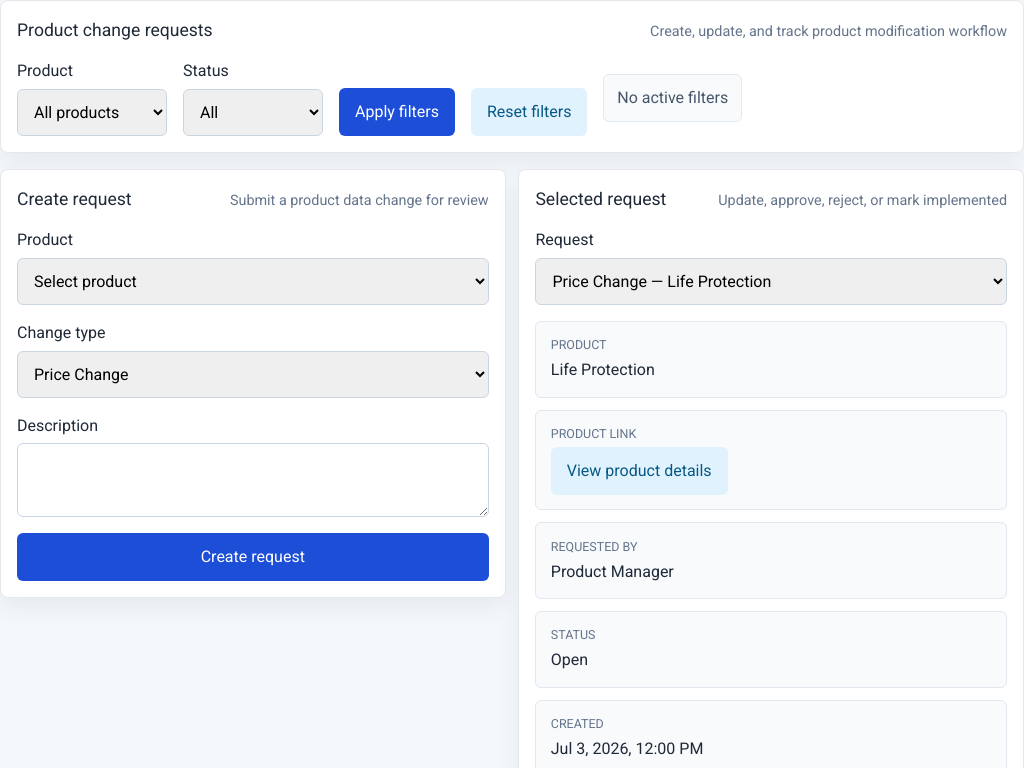
Test case: ProductChangeRequestsPage › applies product and status filters
This screenshot has width=1024, height=768.
Select "Life Protection" in the dropdown named "Product filter": (92, 112) [17, 89, 167, 136]
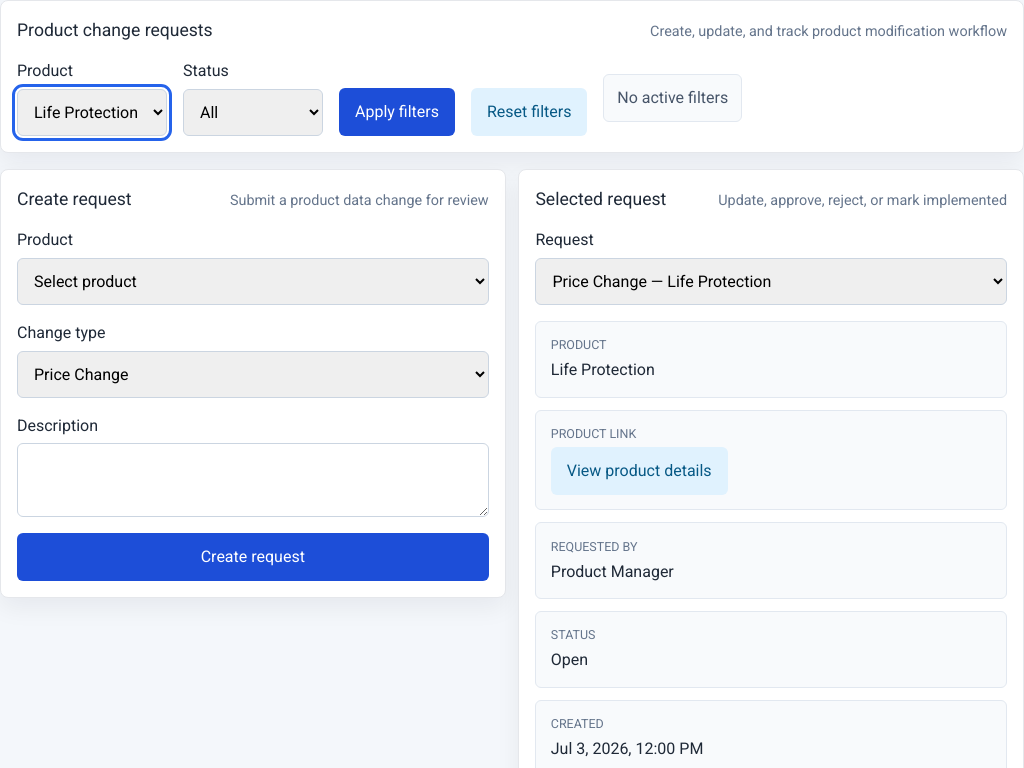
Select "Open" in the dropdown named "Change request status filter": (253, 112) [183, 89, 323, 136]
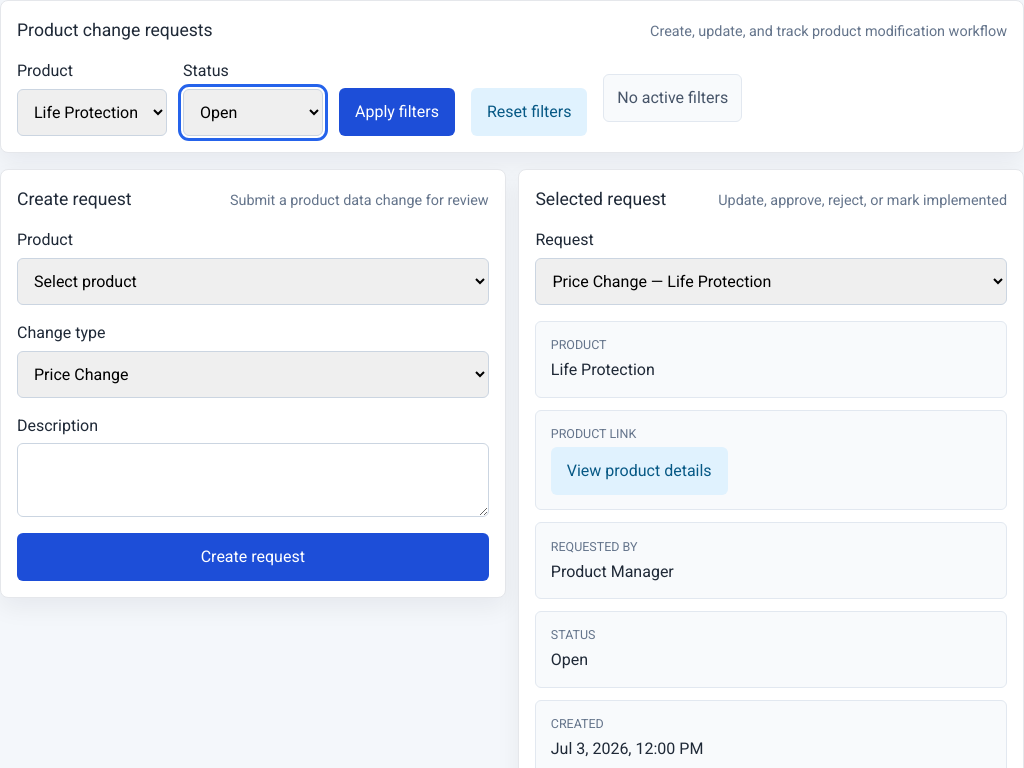
Click the button "Apply filters": (397, 112) [339, 88, 455, 136]
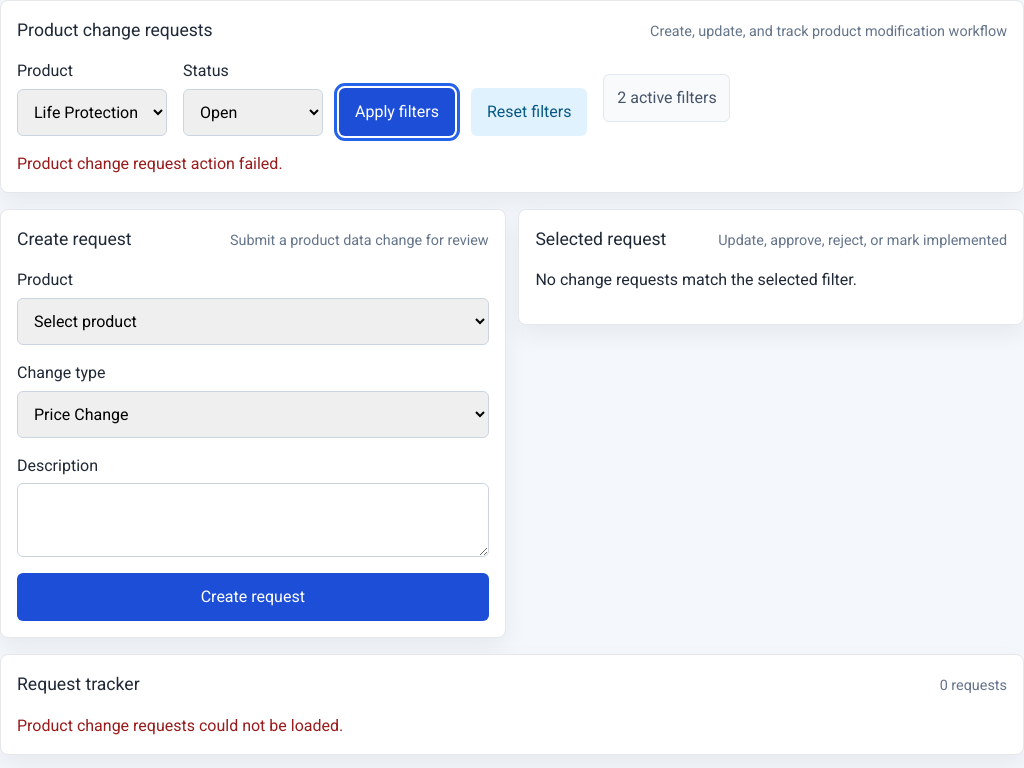
Result: the text "2 active filters" is shown at [604, 74, 730, 122]
